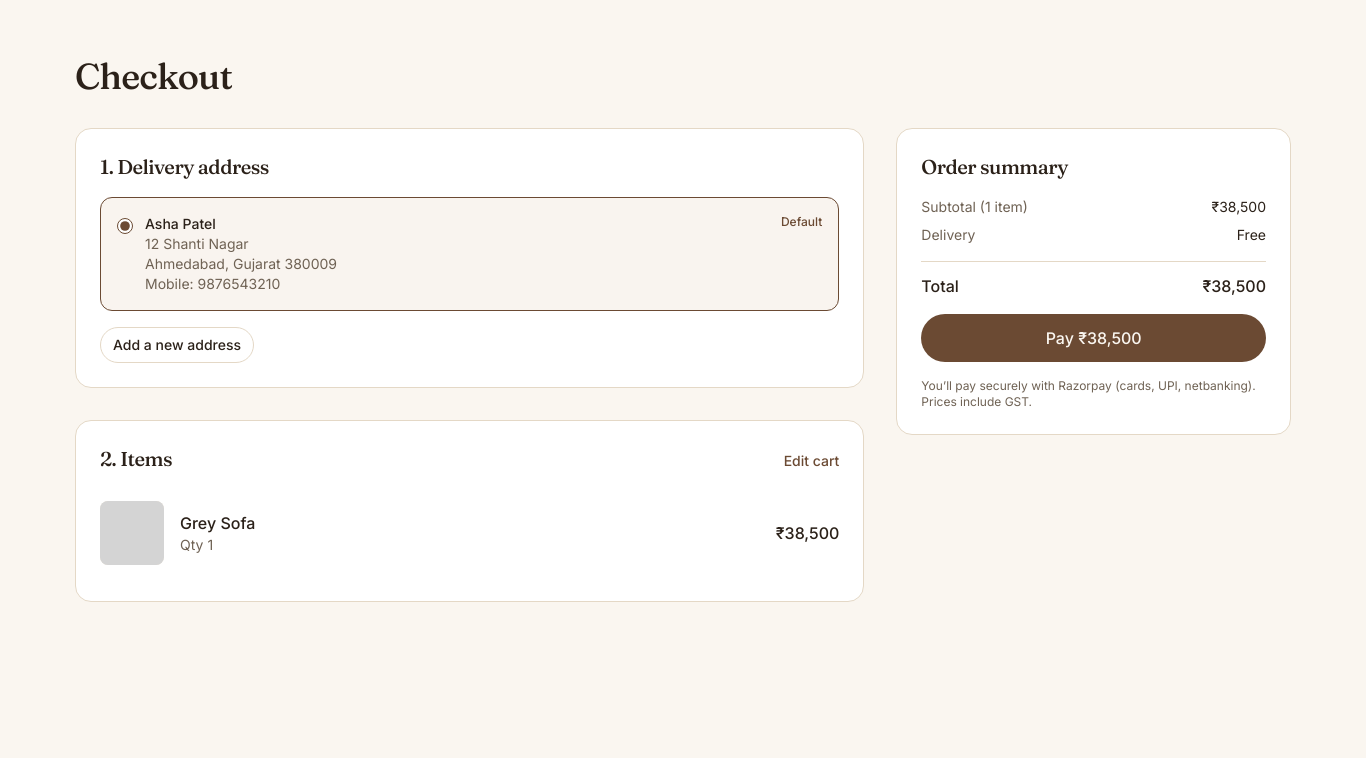
Test: paying at checkout › places the order, opens Razorpay, verifies, and shows the paid order
The width and height of the screenshot is (1366, 758).
Click the button "Pay ₹38,500" at (1094, 338), box left=921, top=314, right=1266, bottom=362
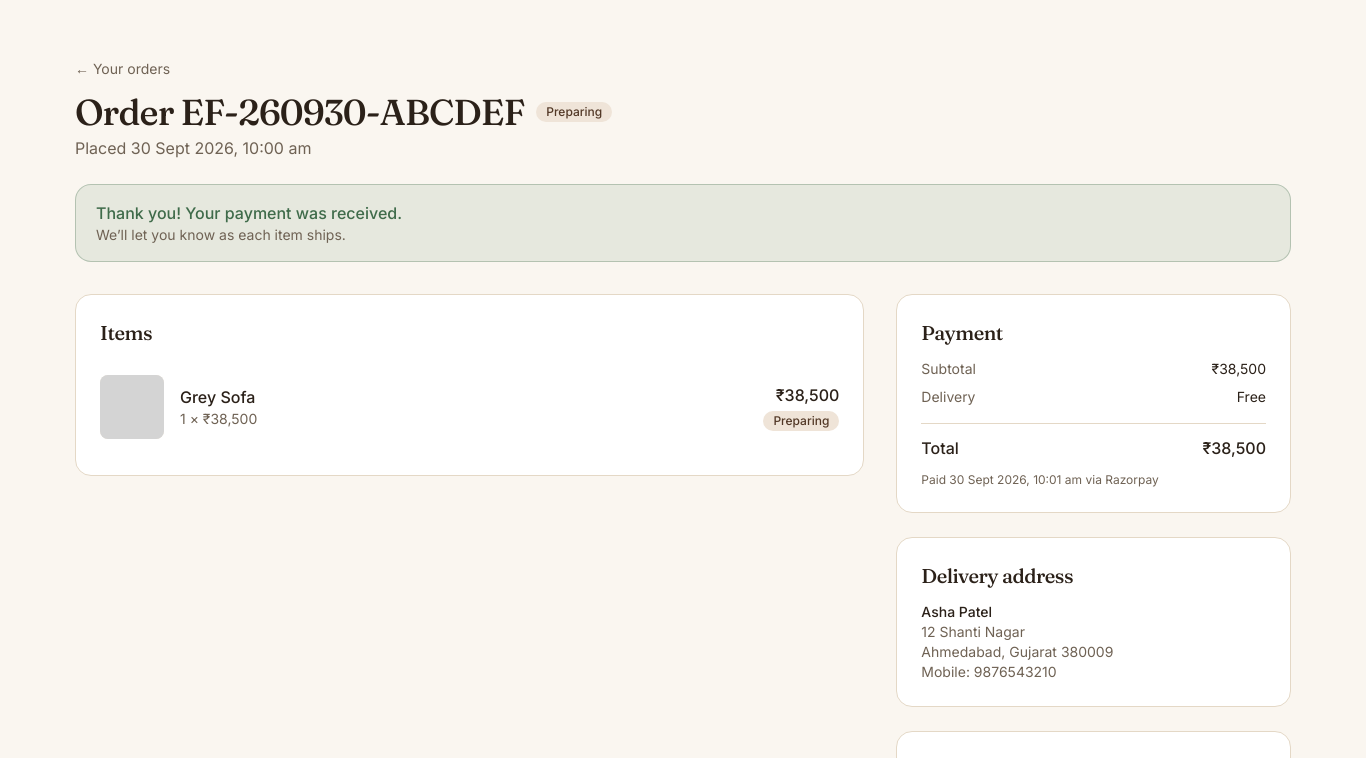
Check: the text "Thank you! Your payment was received." is shown, box left=96, top=203, right=402, bottom=223
Check: the heading "Order EF-260930-ABCDEF" is shown, box left=75, top=92, right=524, bottom=132
